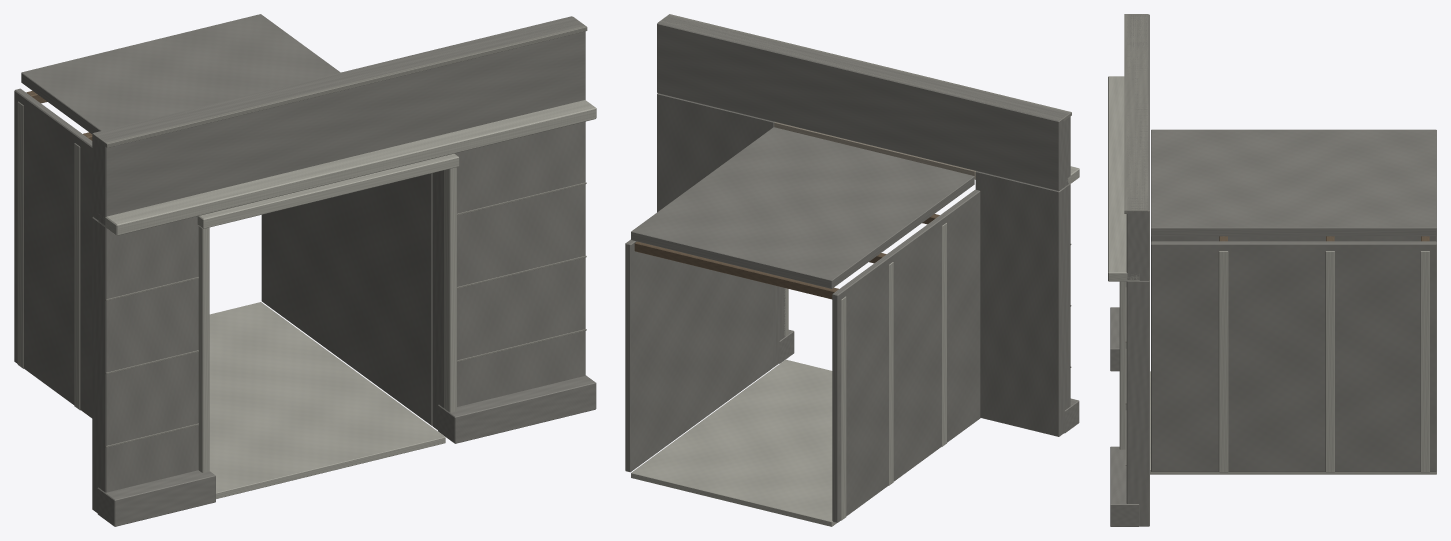
The model's file is F08_ThroughPassage_visual.glb.
3 renders of one model, left to right at view 1: azimuth 30°, elevation 25°; view 2: azimuth 150°, elevation 25°; view 3: azimuth 270°, elevation 25°, orthographic. The views are drawn at different scales.
Parts seen in each view (by area): view 1: F08_ThroughPassage__VIS; view 2: F08_ThroughPassage__VIS; view 3: F08_ThroughPassage__VIS.
Part boxes in pixels (x1,y1,x2,y2): F08_ThroughPassage__VIS: (14,14,596,526); F08_ThroughPassage__VIS: (625,14,1079,526); F08_ThroughPassage__VIS: (1108,14,1436,526).
Bounding box in the file's own units: 24.08 × 18.3 × 16.96.
Materials: 1 (1 with a texture image).
